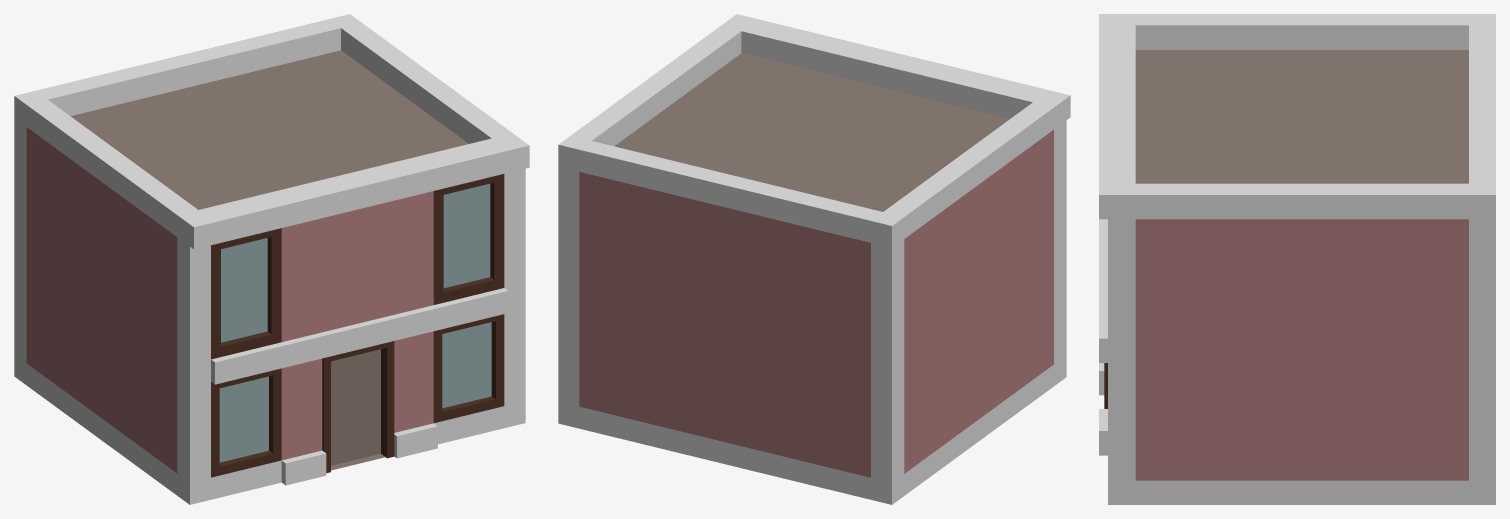
File: smt.fbx
The picture shows the model from 3 angles, left to right: view 1: azimuth 30°, elevation 25°; view 2: azimuth 150°, elevation 25°; view 3: azimuth 270°, elevation 25°; orthographic projection. The views are drawn at different scales.
Visible parts, largest first — view 1: pCube1; view 2: pCube1; view 3: pCube1.
Part boxes in pixels (<box>): pCube1: <box>14,14,529,504</box>; pCube1: <box>558,14,1070,504</box>; pCube1: <box>1099,14,1495,504</box>.
Size of the model in its own units: 23.78 by 19 by 22.04.
